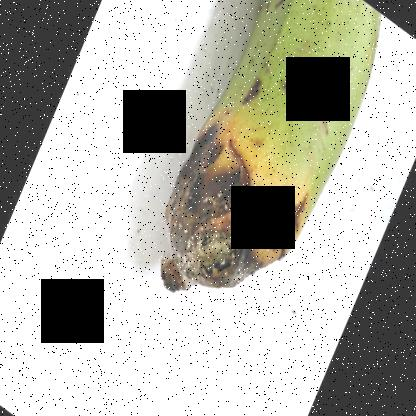rotten: (150, 136, 307, 310)
